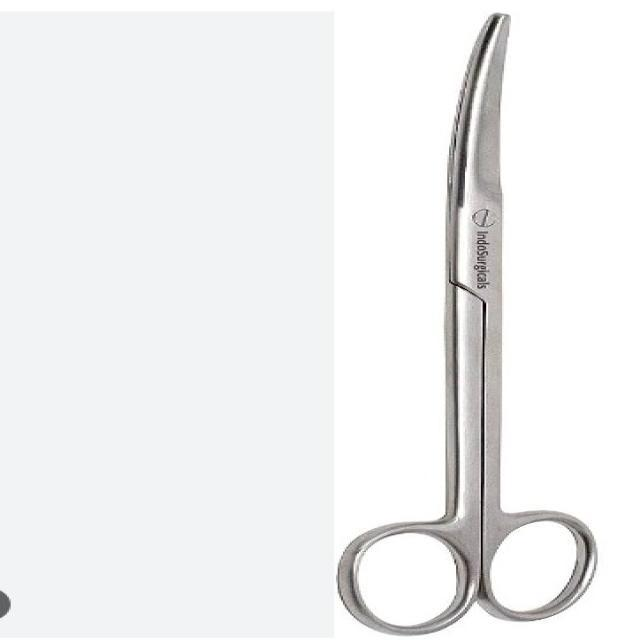Curved Mayo: (339, 9, 603, 632)
